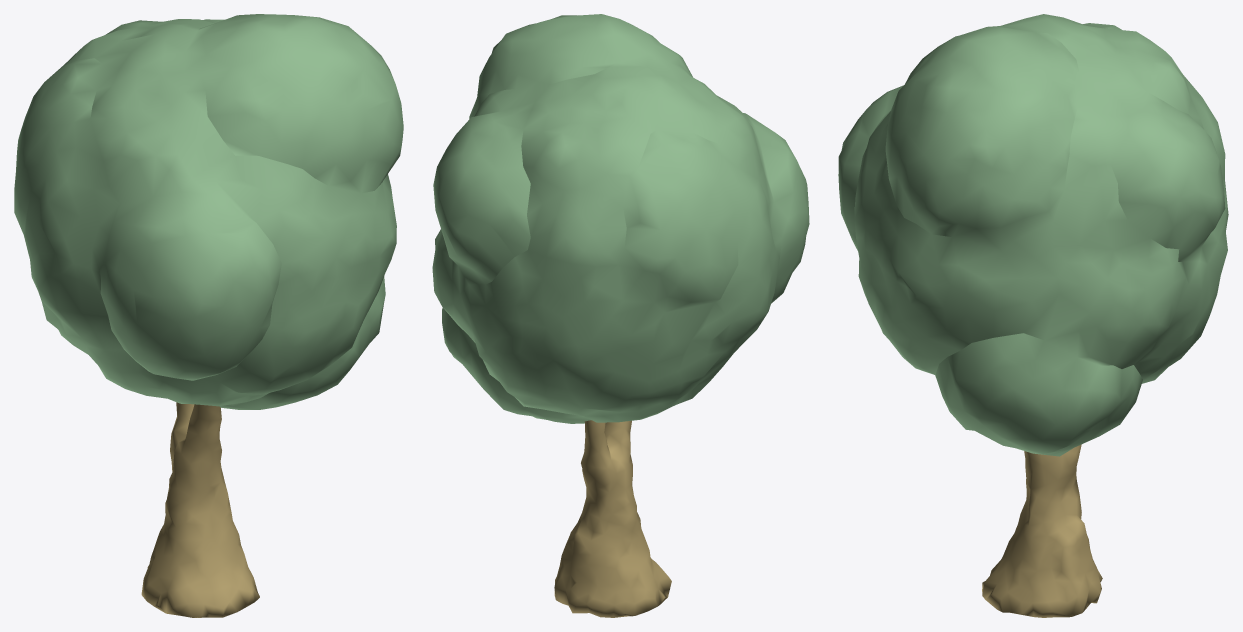
The model's file is Tree_3.fbx.
The picture shows the model from 3 angles, left to right: view 1: azimuth 30°, elevation 25°; view 2: azimuth 150°, elevation 25°; view 3: azimuth 270°, elevation 25°; orthographic projection. The views are drawn at different scales.
Visible parts, largest first — view 1: polySurface2, pCube2; view 2: polySurface2, pCube2; view 3: polySurface2, pCube2.
Part boxes in pixels (x1,y1,x2,y2): polySurface2: (14,14,403,409); pCube2: (141,402,259,617); polySurface2: (432,14,809,423); pCube2: (554,420,671,617); polySurface2: (838,14,1228,456); pCube2: (982,444,1102,617).
Size of the model in its own units: 4.72 by 8.01 by 4.89.
